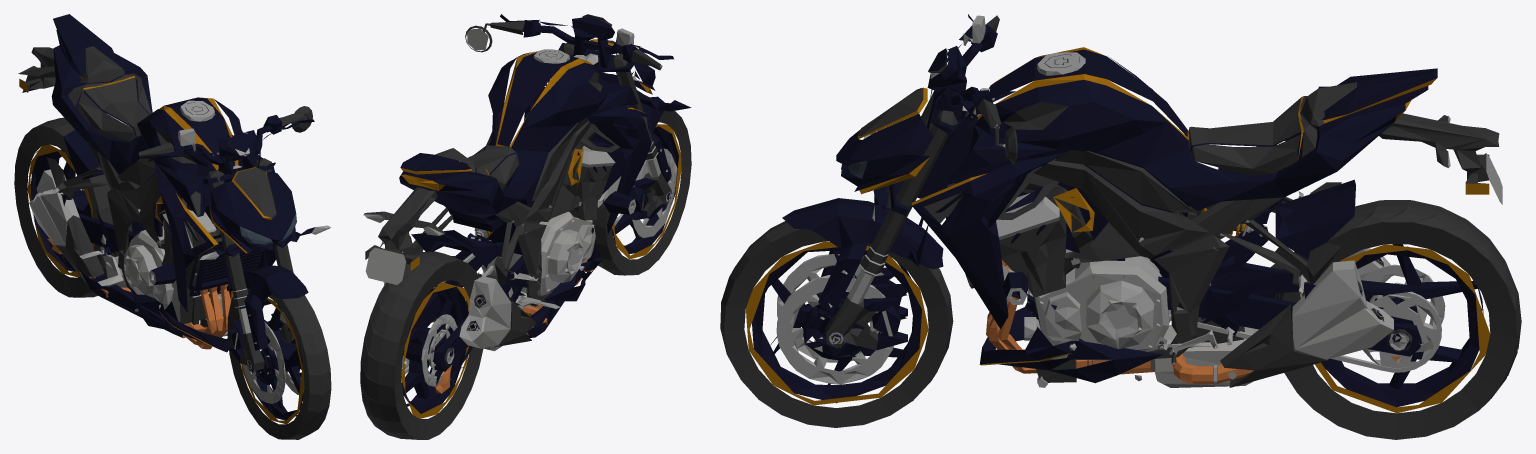
File: kawa-z900_lod.glb
The picture shows the model from 3 angles, left to right: view 1: azimuth 30°, elevation 25°; view 2: azimuth 150°, elevation 25°; view 3: azimuth 270°, elevation 25°; orthographic projection. The views are drawn at different scales.
Parts seen in each view (by area): view 1: defaultMaterial; view 2: defaultMaterial; view 3: defaultMaterial.
Part boxes in pixels (<box>): defaultMaterial: <box>14,14,331,439</box>; defaultMaterial: <box>360,14,691,439</box>; defaultMaterial: <box>720,14,1521,439</box>.
Size of the model in its own units: 0.7455 by 1.1 by 2.07.
